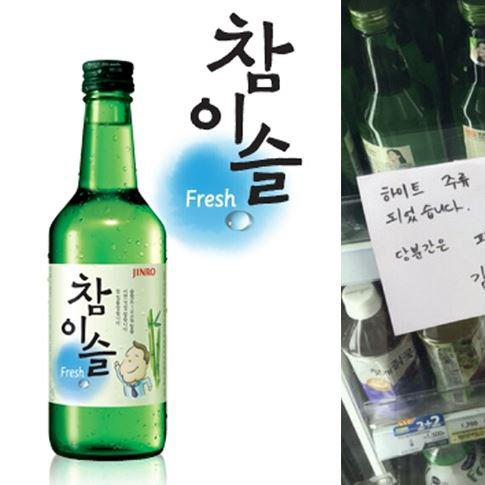soju: (46, 58, 171, 460)
